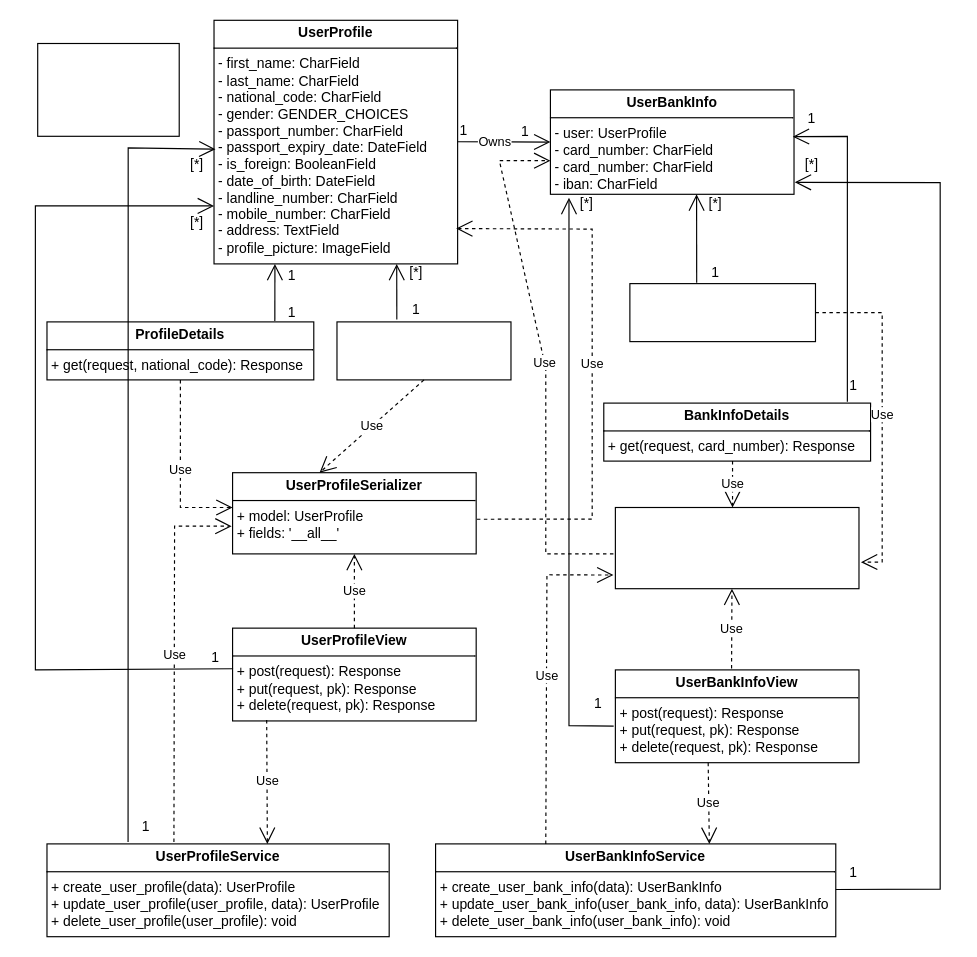
Image size: 977x957. Some labels were removed from this diagram. Here are the shapes that lost their labels. From the top down, the centre of each, then its label:
At point 108,89: "<<Enumeration>> GENDER_CHOICES Male Female".
At point 722,312: "BankInfoLists + get(request): Response".
At point 423,350: "ProfileLists + get(request): Response".
At point 736,547: "UserBankInfoSerializer + model: UserBankInfo + fields: '__all__'".
